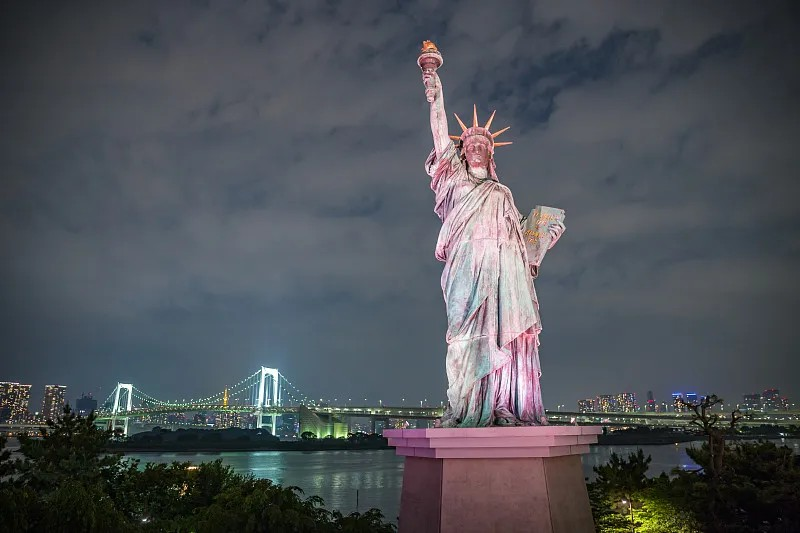SL: (383, 39, 604, 533)
